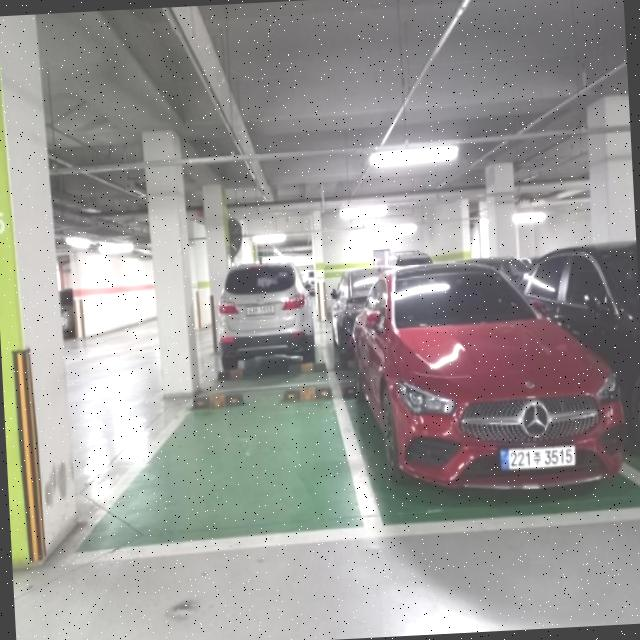empty: (146, 380, 360, 544)
occupied: (348, 253, 634, 516), (210, 256, 316, 386)
